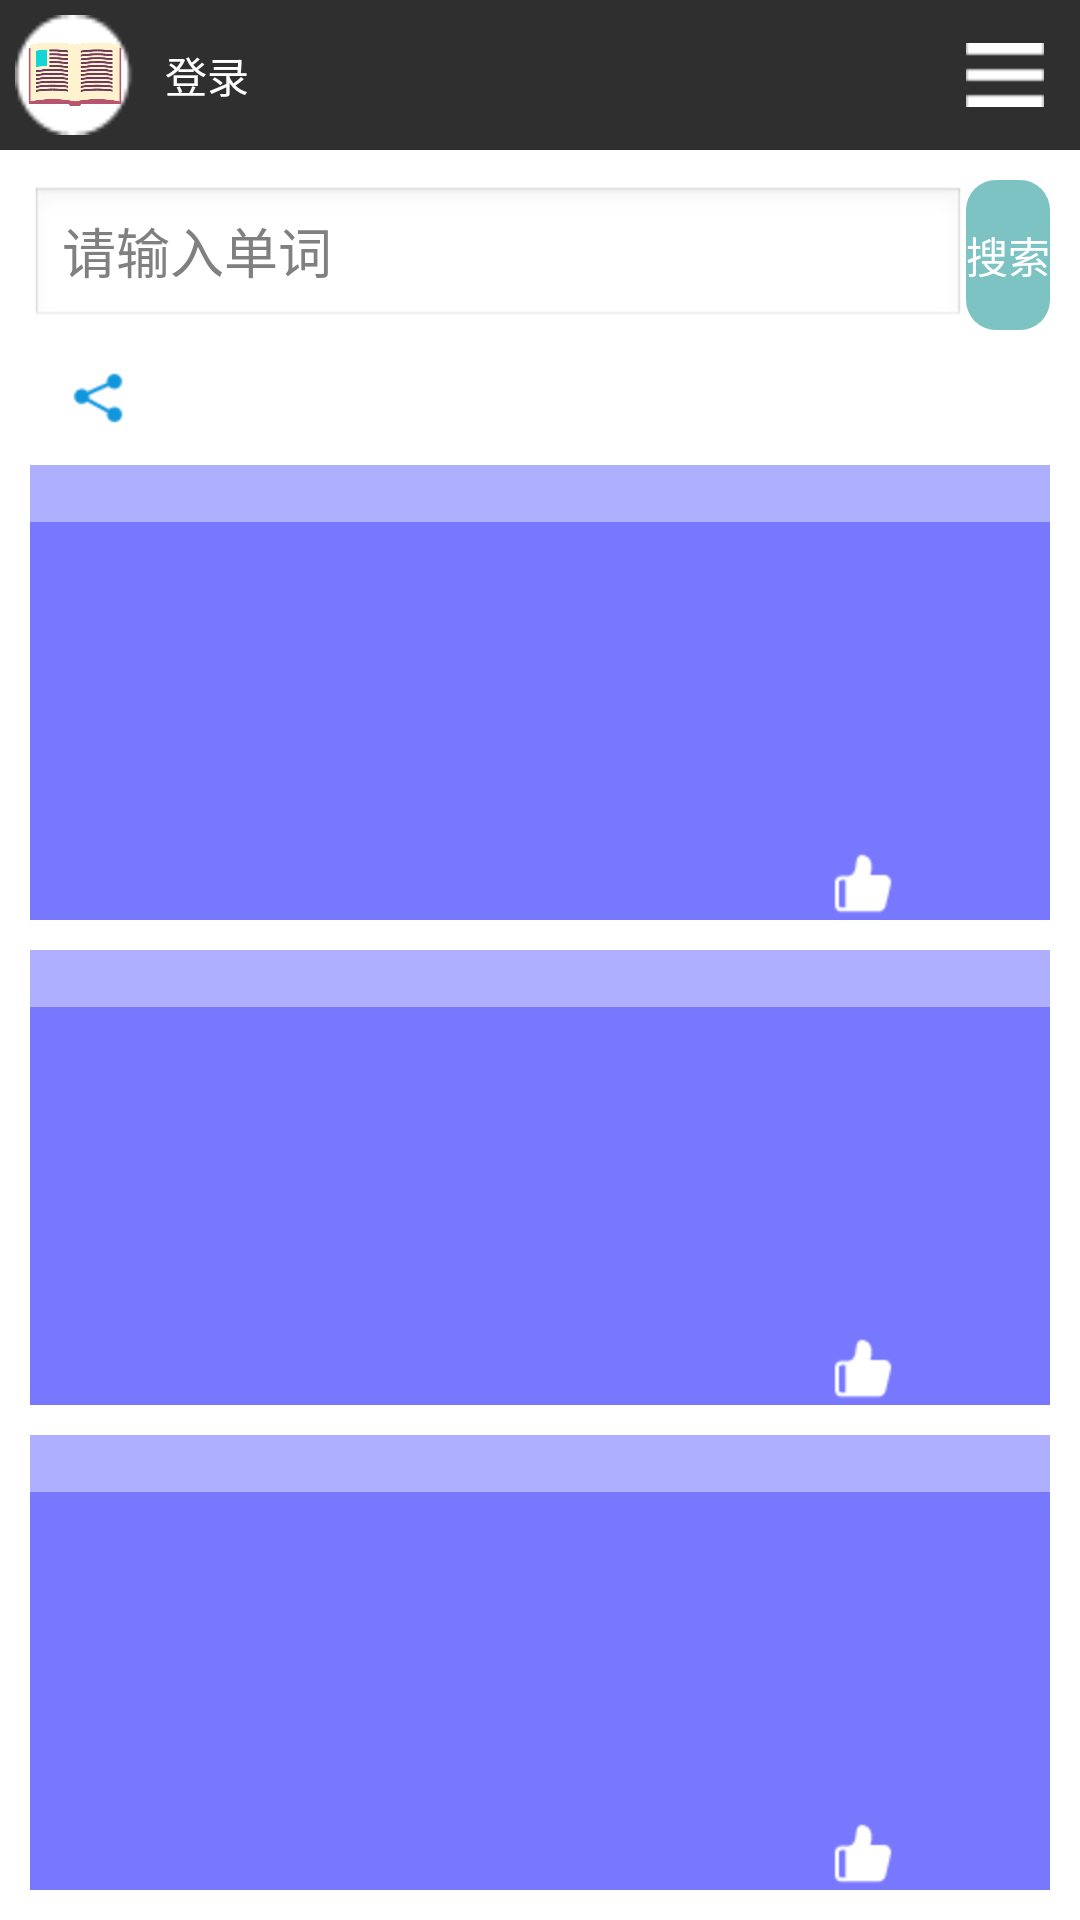

Icons on this 1080x1920 Android screen, each with the point to tap as (x=x, y=y):
分享词条: (x=98, y=398)
点赞: (x=863, y=883), (x=863, y=1368), (x=863, y=1853)
